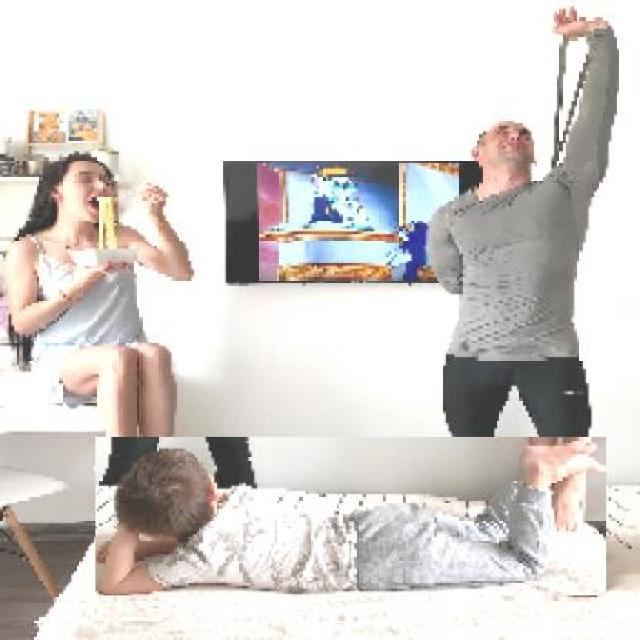child: (94, 437, 606, 597)
